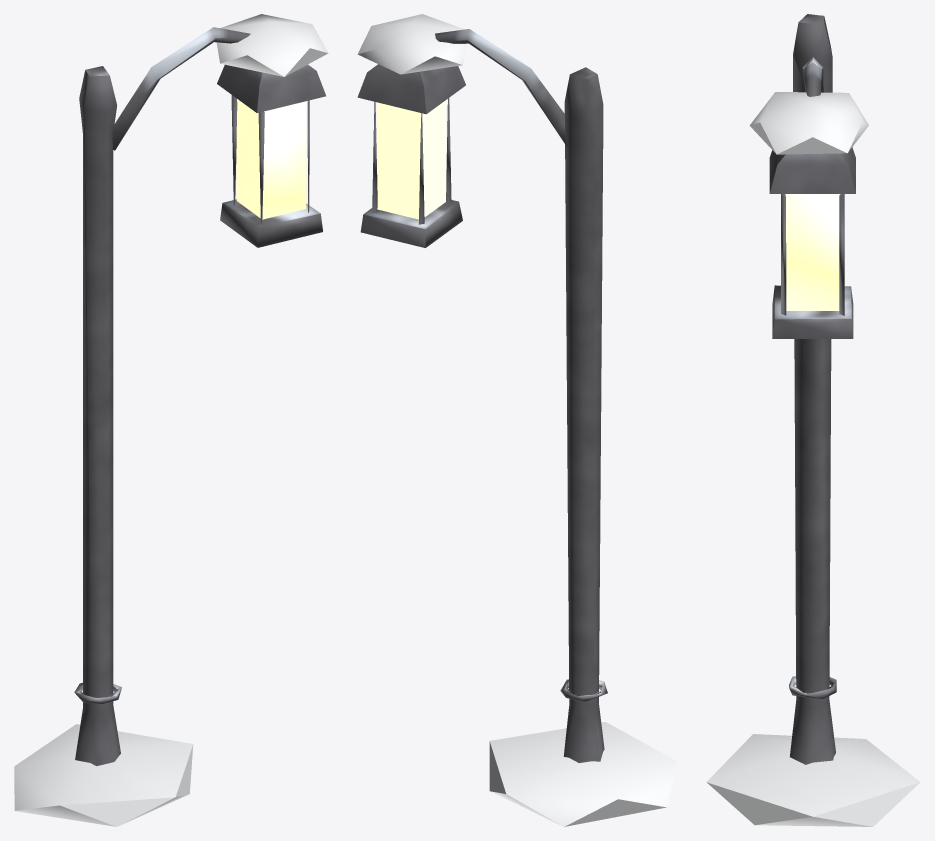
File: lantern_post_lod1.gltf
3 renders of one model, left to right at view 1: azimuth 30°, elevation 25°; view 2: azimuth 150°, elevation 25°; view 3: azimuth 270°, elevation 25°, orthographic. The views are drawn at different scales.
Visible parts, largest first — view 1: lantern_post_LOD1; view 2: lantern_post_LOD1; view 3: lantern_post_LOD1.
Part boxes in pixels (x1=…): lantern_post_LOD1: x1=14, y1=14, x2=328, y2=826; lantern_post_LOD1: x1=357, y1=14, x2=677, y2=826; lantern_post_LOD1: x1=706, y1=14, x2=920, y2=826.
Size of the model in its own units: 1.03 by 2.47 by 0.5974.
1 material, 1 textured.
